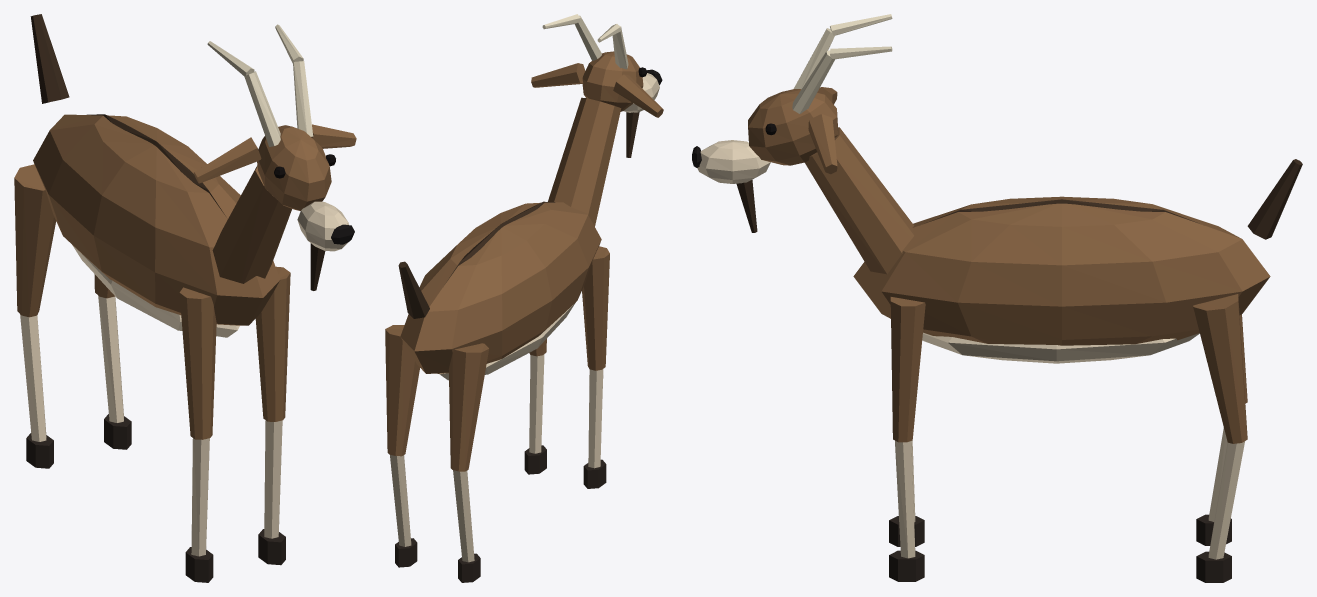
Rendered from goat.obj.
3 renders of one model, left to right at view 1: azimuth 30°, elevation 25°; view 2: azimuth 150°, elevation 25°; view 3: azimuth 270°, elevation 25°, orthographic. The views are drawn at different scales.
Visible parts, largest first — view 1: Body, Head.Neck, Leg.BR, Head.Skull, Leg.FR, Leg.FL, Head.Horn, Head.Ear, Leg.BR.Shin, Leg.BL.Shin, Leg.FR.Shin, Leg.FL.Shin (+9 smaller); view 2: Body, Head.Neck, Leg.BR, Leg.BL, Leg.FR, Head.Skull, Head.Ear, Head.Horn, Leg.FL.Shin, Leg.FR.Shin, Leg.BR.Shin, Leg.BL.Shin (+9 smaller); view 3: Body, Head.Neck, Leg.BL, Head.Skull, Body.Belly, Leg.FL, Head.Horn, Head.Muzzle, Leg.BL.Shin, Leg.FL.Shin, Body.Tail, Head.Ear (+3 smaller).
Part boxes in pixels (x1=…): Body: x1=33, y1=114, x2=280, y2=325; Head.Neck: x1=212, y1=165, x2=291, y2=283; Leg.BR: x1=14, y1=164, x2=56, y2=317; Head.Skull: x1=257, y1=125, x2=331, y2=210; Leg.FR: x1=179, y1=287, x2=216, y2=439; Leg.FL: x1=255, y1=266, x2=290, y2=421; Head.Horn: x1=207, y1=24, x2=313, y2=146; Head.Ear: x1=194, y1=124, x2=356, y2=183; Leg.BR.Shin: x1=20, y1=314, x2=46, y2=441; Leg.BL.Shin: x1=98, y1=295, x2=123, y2=422; Leg.FR.Shin: x1=191, y1=438, x2=209, y2=556; Leg.FL.Shin: x1=264, y1=420, x2=282, y2=538; Body: x1=400, y1=202, x2=601, y2=373; Head.Neck: x1=548, y1=97, x2=621, y2=226; Leg.BR: x1=448, y1=343, x2=488, y2=471; Leg.BL: x1=385, y1=325, x2=419, y2=456; Leg.FR: x1=582, y1=246, x2=609, y2=370; Head.Skull: x1=582, y1=51, x2=643, y2=111; Head.Ear: x1=531, y1=63, x2=663, y2=117; Head.Horn: x1=542, y1=14, x2=628, y2=69; Leg.FL.Shin: x1=529, y1=354, x2=544, y2=453; Leg.FR.Shin: x1=588, y1=369, x2=603, y2=468; Leg.BR.Shin: x1=453, y1=470, x2=474, y2=562; Leg.BL.Shin: x1=390, y1=455, x2=411, y2=546; Body: x1=853, y1=196, x2=1270, y2=345; Head.Neck: x1=804, y1=127, x2=914, y2=274; Leg.BL: x1=1193, y1=294, x2=1247, y2=443; Head.Skull: x1=748, y1=89, x2=837, y2=165; Body.Belly: x1=922, y1=332, x2=1199, y2=363; Leg.FL: x1=890, y1=297, x2=925, y2=442; Head.Horn: x1=792, y1=14, x2=892, y2=113; Head.Muzzle: x1=697, y1=140, x2=770, y2=183; Leg.BL.Shin: x1=1208, y1=441, x2=1244, y2=559; Leg.FL.Shin: x1=895, y1=440, x2=915, y2=558; Body.Tail: x1=1247, y1=159, x2=1302, y2=239; Head.Ear: x1=808, y1=87, x2=837, y2=174.
Bounding box in the file's own units: 0.328 × 1.07 × 1.11.
